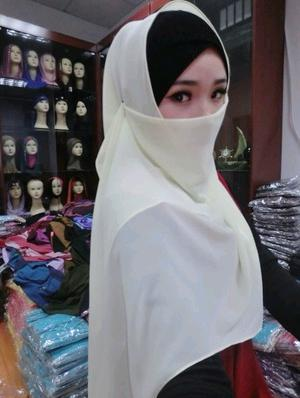WRONG: (148, 70, 230, 152)
